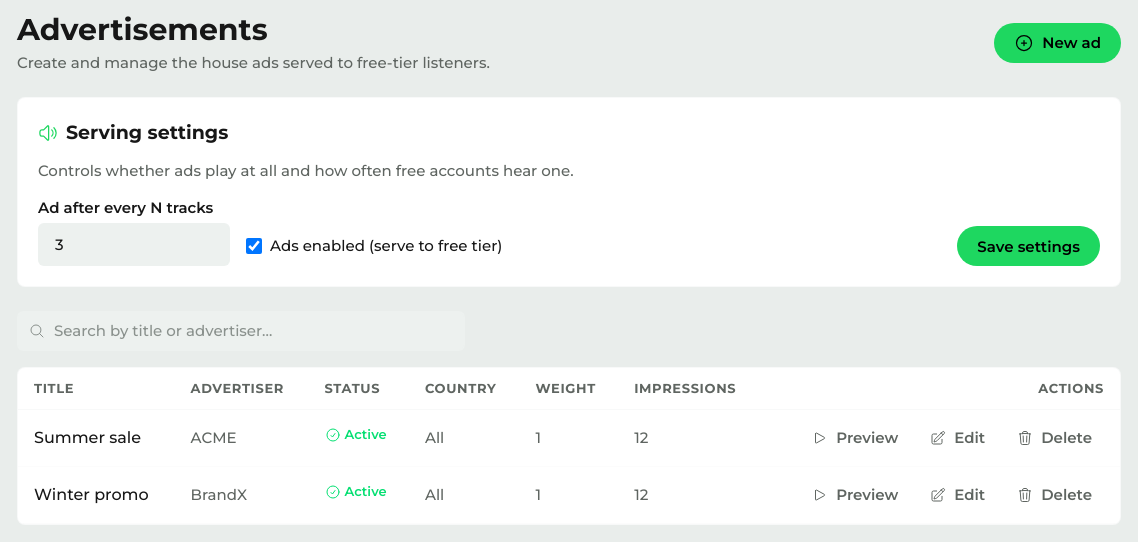
Test: AdminAdsPage › filters ads by title or advertiser, case-insensitively, and shows a no-results state
Expected: the text "Summer sale" is shown, [34,428,141,447]
Expected: the text "Winter promo" is shown, [34,485,149,504]
Type "SUMMER" into the field named "Search advertisements" at (241, 331), box [17,311,465,351]
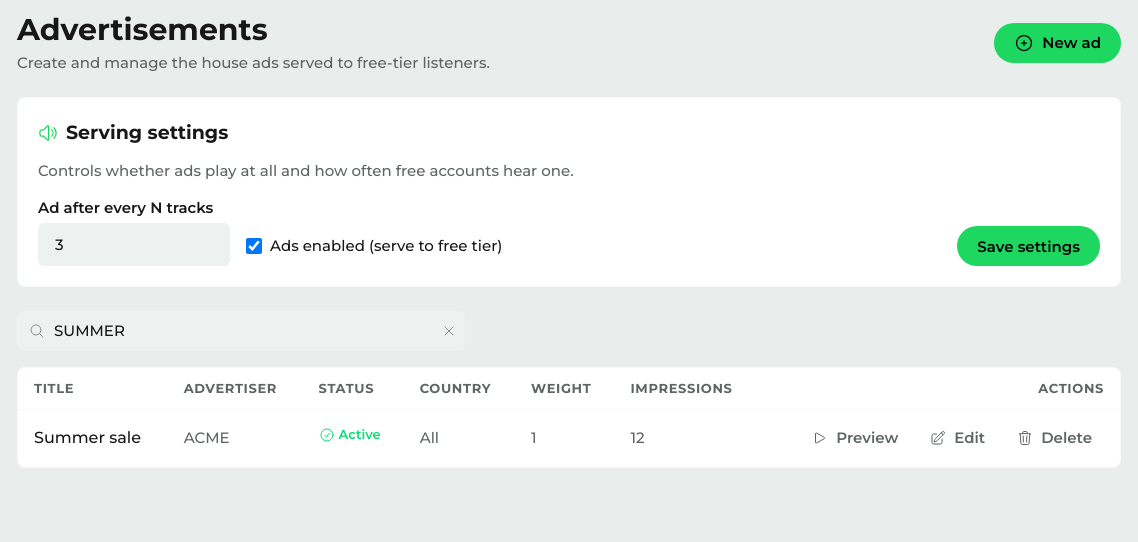
Expected: the text "Summer sale" is shown, [34,428,141,447]
Now the text "Winter promo" is gone
Replace the text in the field named "Search advertisements" with "brandx" at (241, 331), box [17,311,465,351]
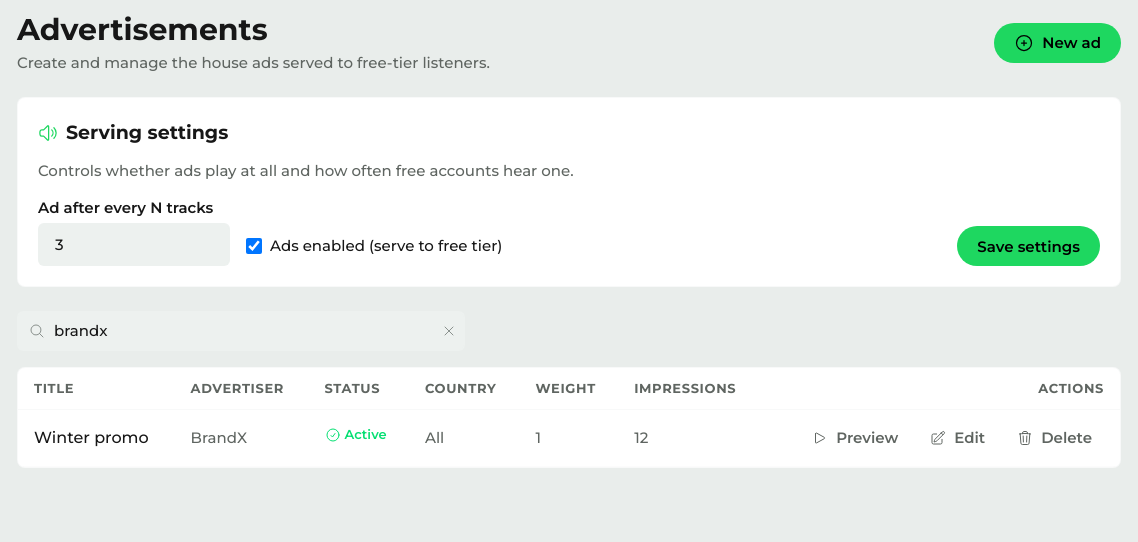
Now the text "Winter promo" is shown, box [34,428,149,447]
Now the text "Summer sale" is gone
Replace the text in the field named "Search advertisements" with "nonexistent" at (241, 331), box [17,311,465,351]
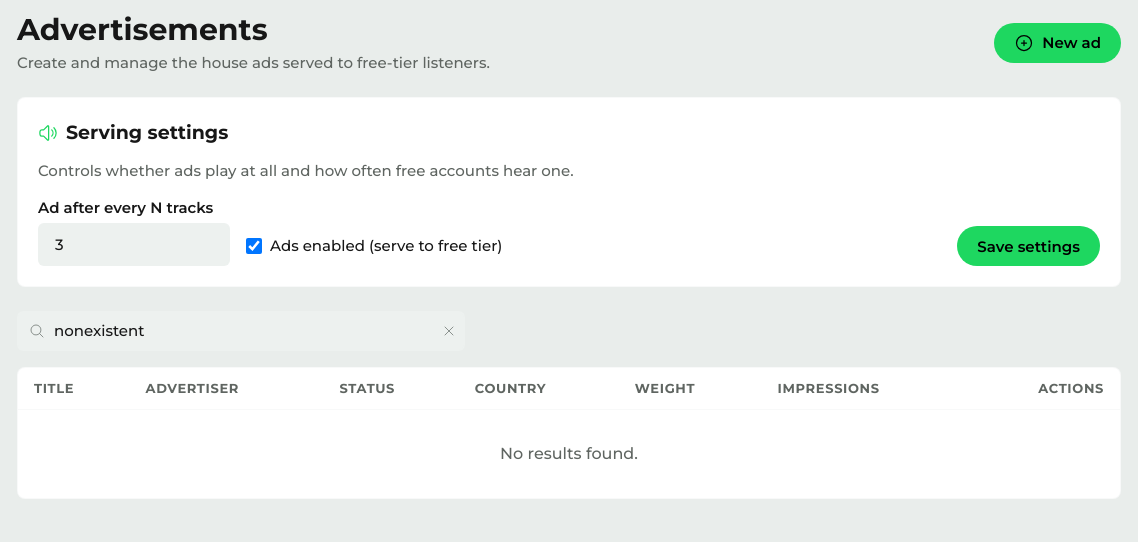
Now the text "No results found." is shown, box [18,410,1120,498]
Clear the field named "Search advertisements" at (241, 331), box [17,311,465,351]
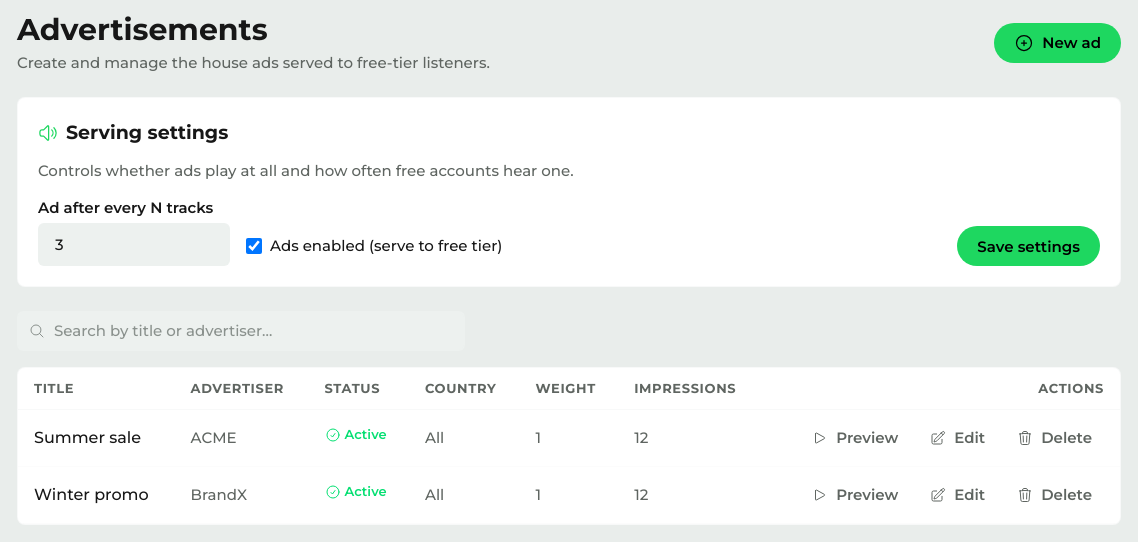
Now the text "Summer sale" is shown, box [34,428,141,447]
Now the text "Winter promo" is shown, box [34,485,149,504]
